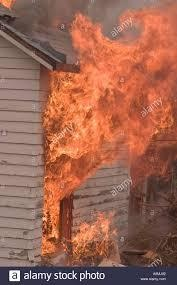fire: (25, 0, 175, 246)
